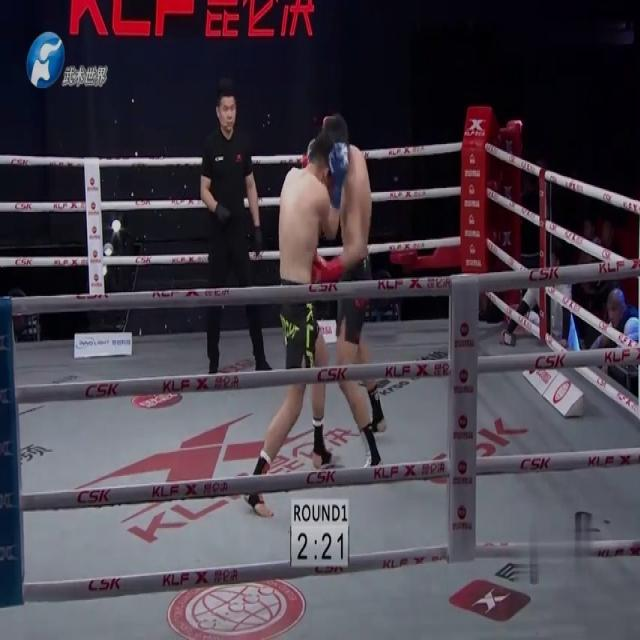fight: (244, 105, 383, 520)
non-fight: (196, 81, 268, 382)
